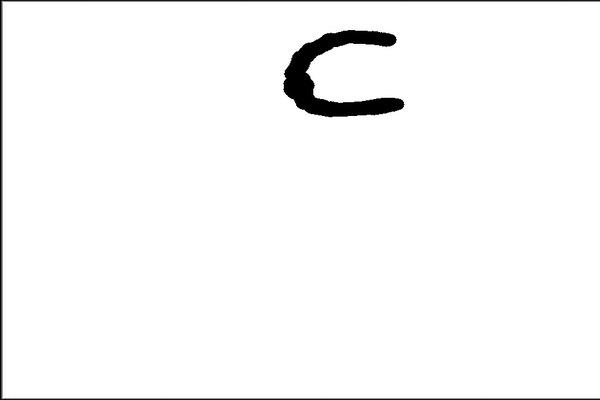C: (278, 26, 410, 120)
